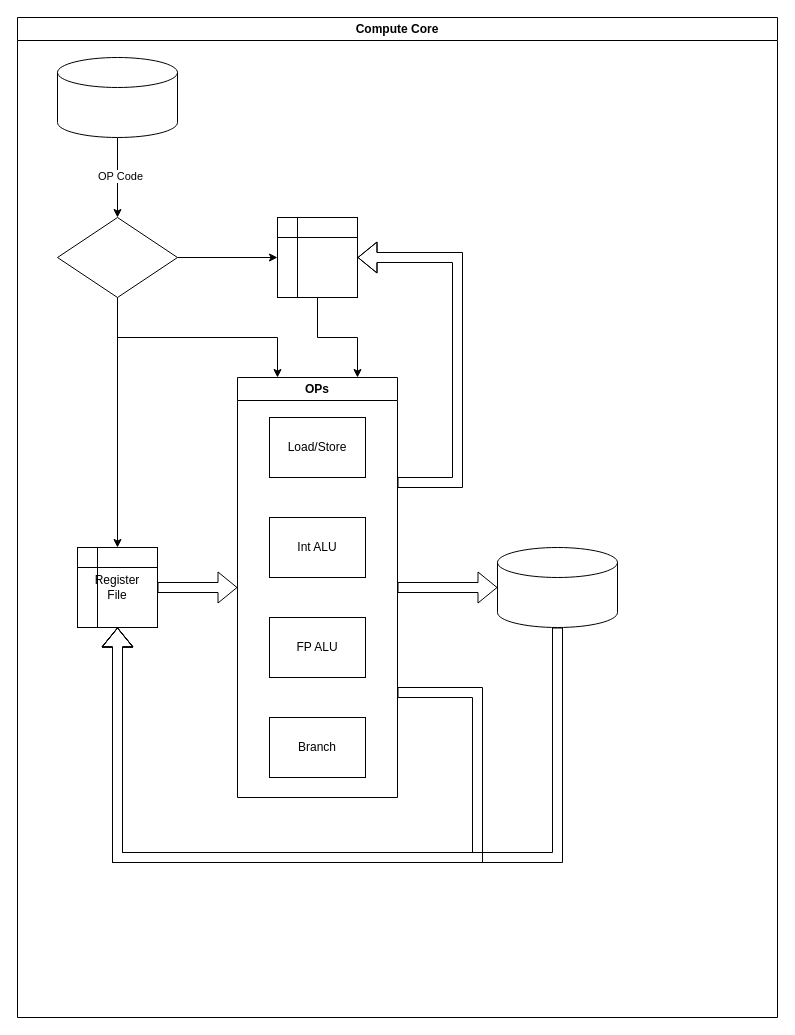
This 795x1035 diagram has some shape labels left out. The shapes that lost their labels are listed below. From the top down, each one's centre as x and y in pixels, then its label:
At (117,97): "Thead Instruction Memory Location".
At (117,257): "Control Unit".
At (317,257): "PC".
At (557,587): "Data Memory".
